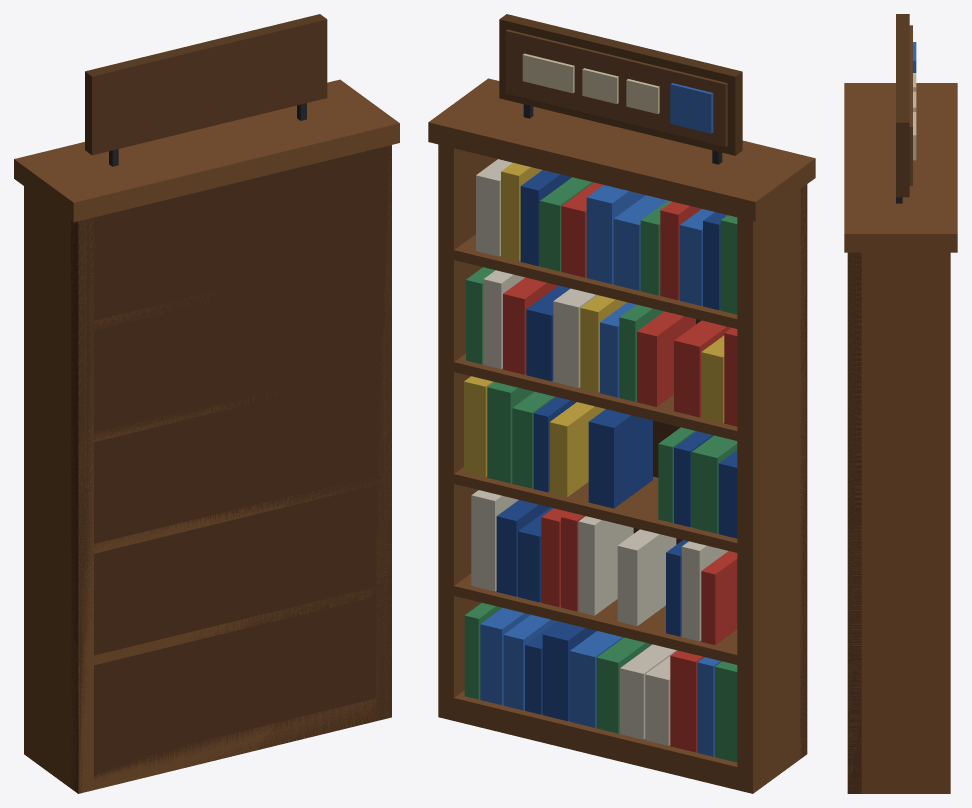
The model's file is tv-shelf-toan.glb.
3 renders of one model, left to right at view 1: azimuth 30°, elevation 25°; view 2: azimuth 150°, elevation 25°; view 3: azimuth 270°, elevation 25°, orthographic. The views are drawn at different scales.
Parts seen in each view (by area): view 1: box-prop; view 2: box-prop; view 3: box-prop.
Boxes of the visible parts, box(x1,y1,x2,y2) form: box-prop: box(14, 14, 399, 793); box-prop: box(428, 14, 815, 793); box-prop: box(844, 14, 957, 793).
Size of the model in its own units: 2.08 by 4.2 by 0.66.
